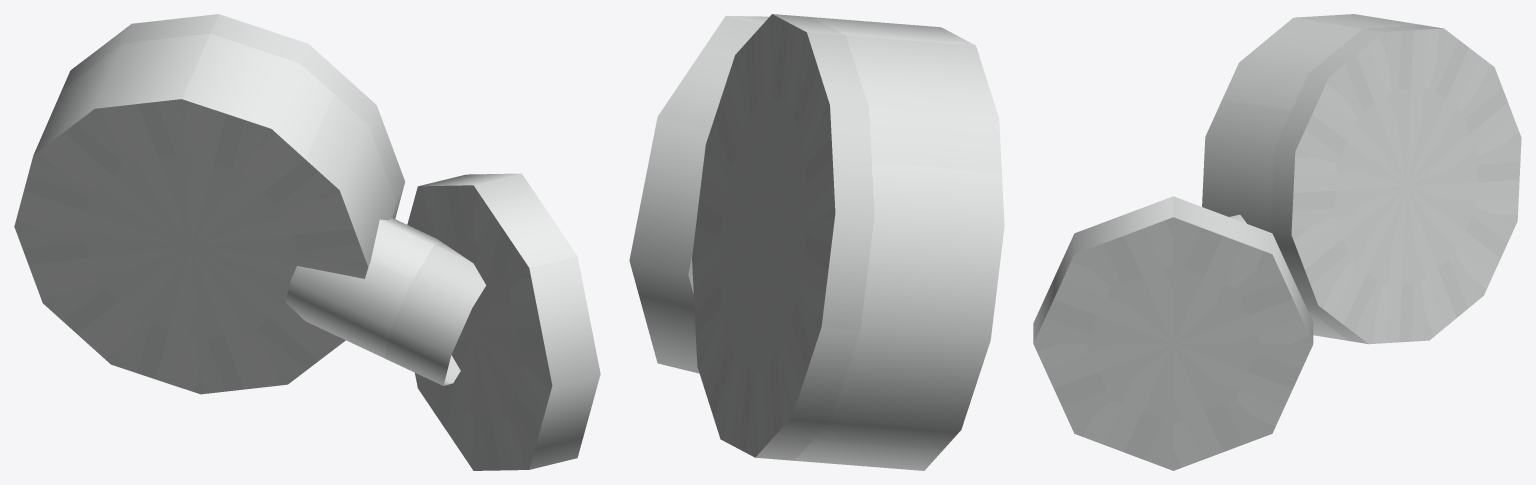
The model's file is nycsignalarm_stub_140.obj.
3 views of the same model, side by side, from view 1: azimuth 30°, elevation 25°; view 2: azimuth 150°, elevation 25°; view 3: azimuth 270°, elevation 25° (orthographic). The views are drawn at different scales.
Visible parts, largest first — view 1: nycsignalarm_stub_140; view 2: nycsignalarm_stub_140; view 3: nycsignalarm_stub_140.
Part boxes in pixels (x1,y1,x2,y2): nycsignalarm_stub_140: [14, 14, 600, 470]; nycsignalarm_stub_140: [629, 14, 1004, 470]; nycsignalarm_stub_140: [1033, 14, 1521, 470].
Bounding box in the file's own units: 0.4645 × 0.4946 × 0.61.
